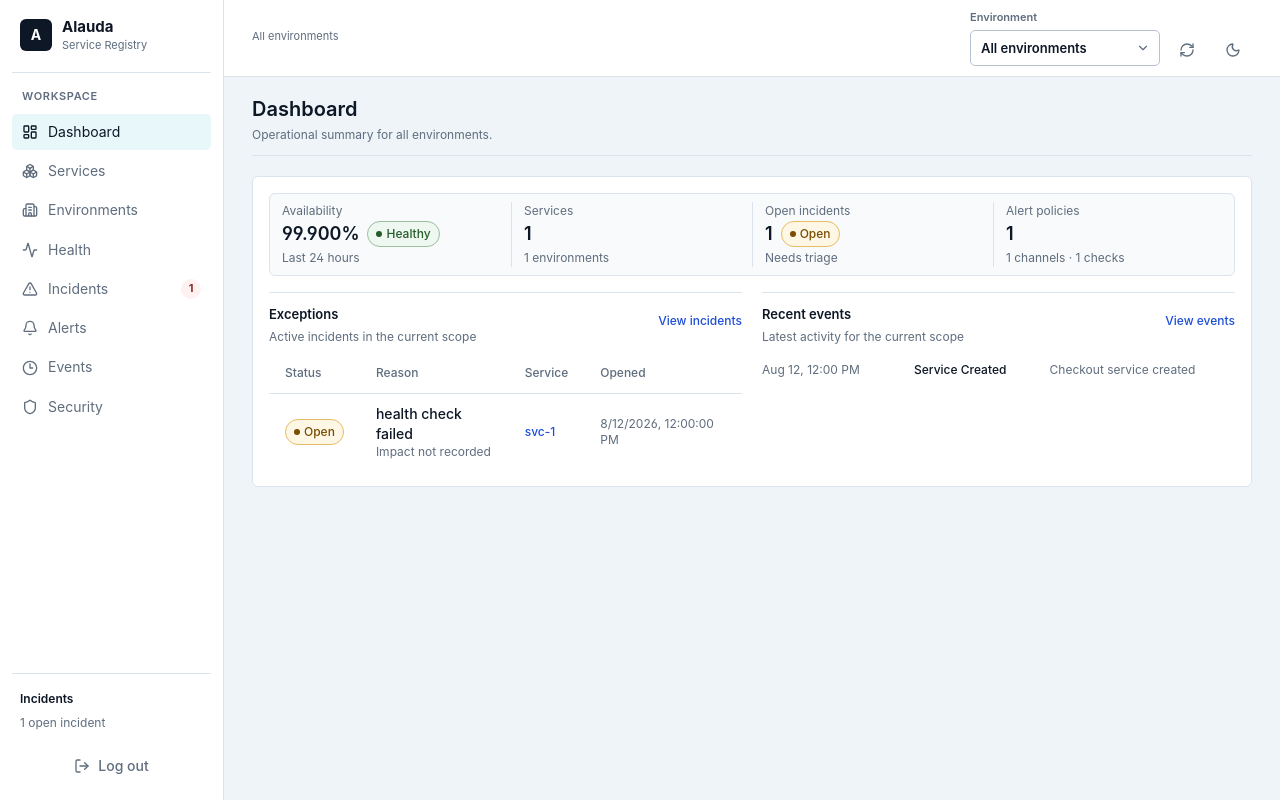
Test case: App › toggles dark mode
Check: the text "Checkout service created" is shown, box [1050,362,1195,377]
Click the button named "Dark mode": (1233, 50) [1214,34,1252,66]
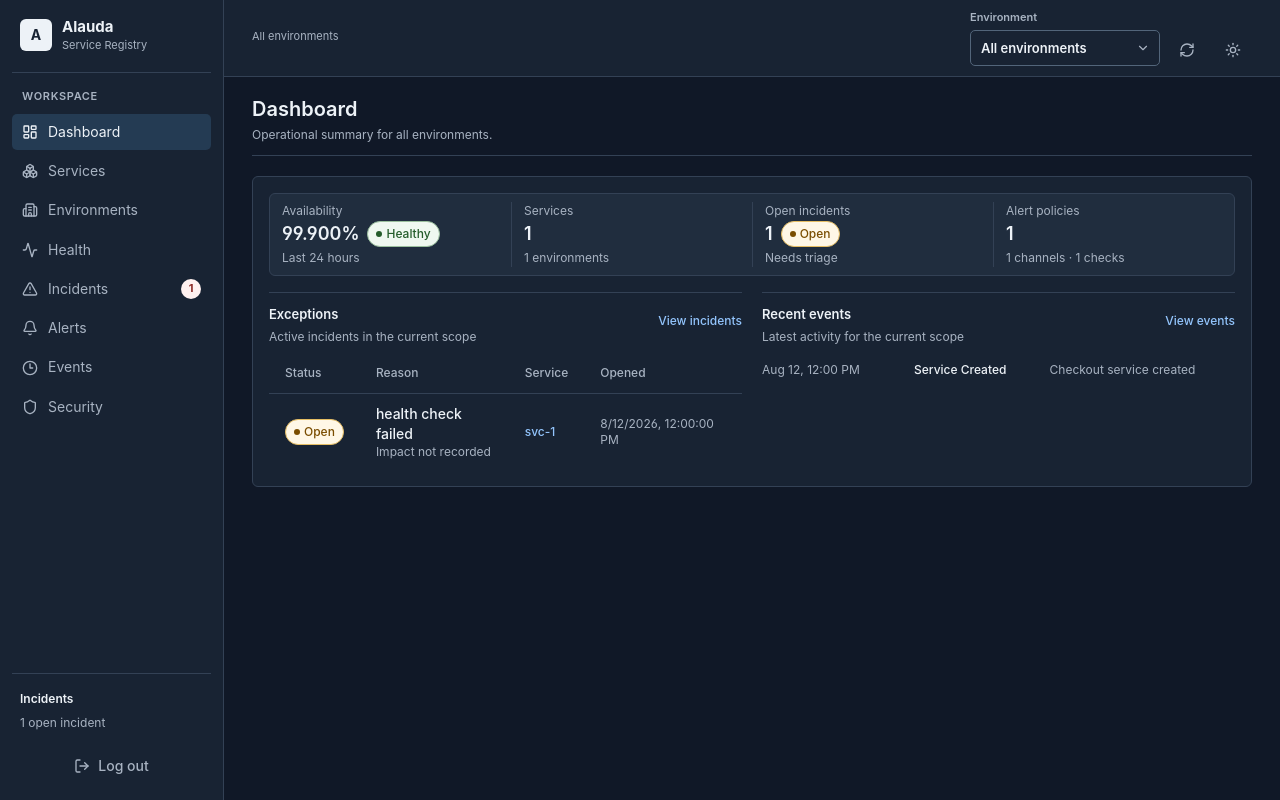
Check: the button named "Light mode" is shown, box [1214,34,1252,66]
